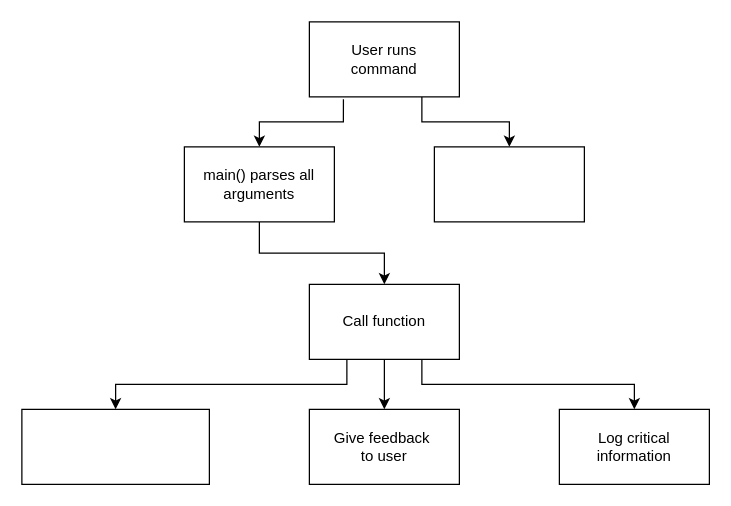
This 731x506 diagram has some shape labels left out. The shapes that lost their labels are listed below. From the top down, each one's centre as x and y in pixels, then its label:
the point at 508,184: main() locks operation
the point at 115,446: Update files/metadata
